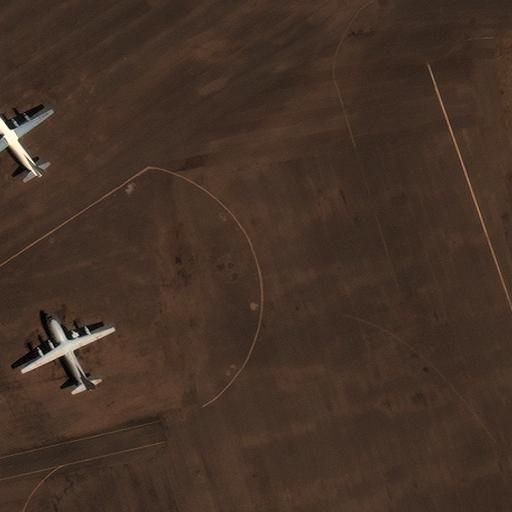Military Transport: (19, 314, 112, 391), (0, 106, 51, 177)
